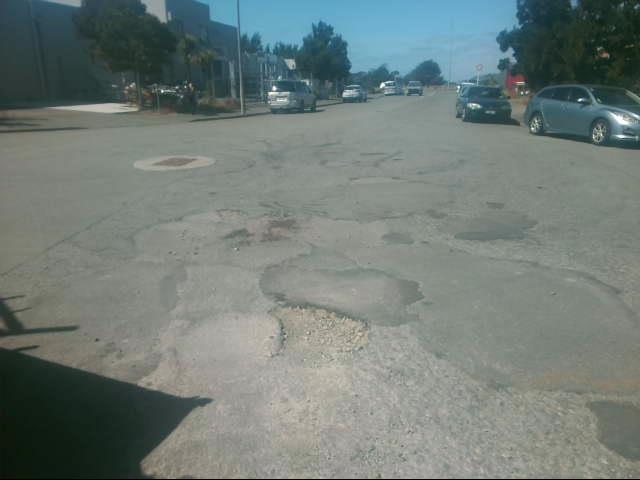pothole: (261, 294, 375, 363)
